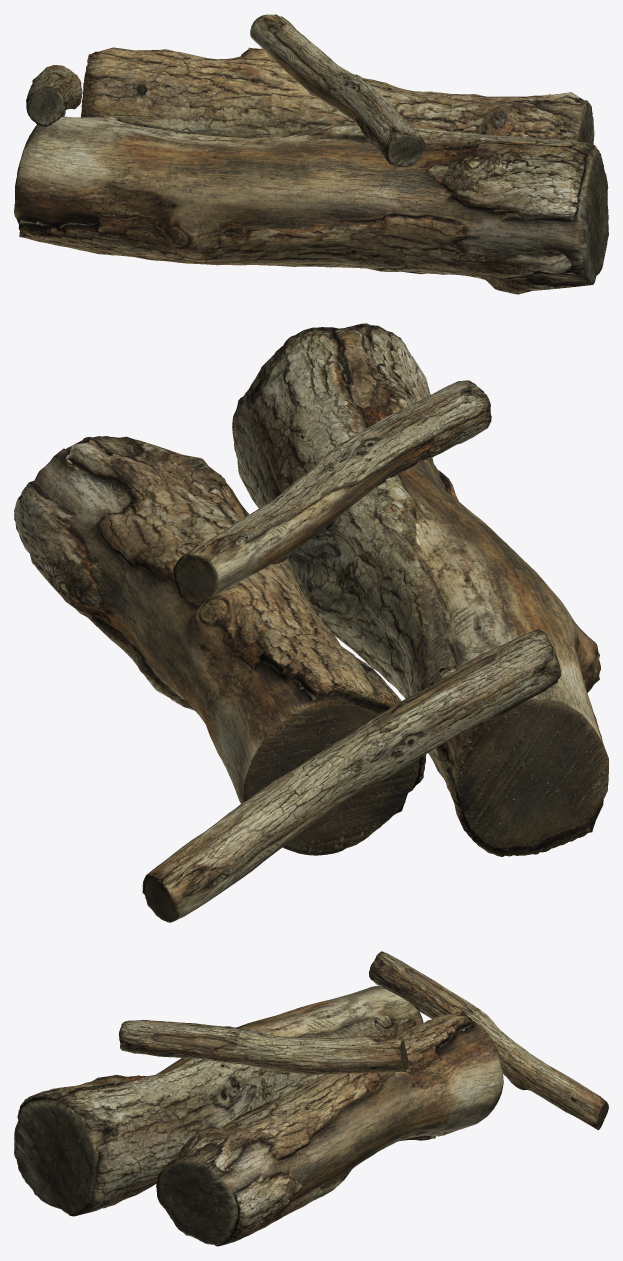
The model's file is log_sizzling_cauldron 1.obj.
3 renders of one model, top to bottom at view 1: azimuth 30°, elevation 25°; view 2: azimuth 150°, elevation 25°; view 3: azimuth 270°, elevation 25°, orthographic. The views are drawn at different scales.
Visible parts, largest first — view 1: log_big_right_Cylinder.000, log_big_left_Cylinder.001, log_small_1_Cylinder.004, log_small_2_Cylinder.005; view 2: log_big_right_Cylinder.000, log_big_left_Cylinder.001, log_small_2_Cylinder.005, log_small_1_Cylinder.004; view 3: log_big_left_Cylinder.001, log_big_right_Cylinder.000, log_small_1_Cylinder.004, log_small_2_Cylinder.005.
Boxes of the visible parts, <box> form: log_big_right_Cylinder.000: <box>14,115,608,294</box>; log_big_left_Cylinder.001: <box>81,47,594,143</box>; log_small_1_Cylinder.004: <box>250,14,425,167</box>; log_small_2_Cylinder.005: <box>26,65,82,126</box>; log_big_right_Cylinder.000: <box>232,323,608,856</box>; log_big_left_Cylinder.001: <box>14,436,426,855</box>; log_small_2_Cylinder.005: <box>142,629,561,922</box>; log_small_1_Cylinder.004: <box>173,380,491,603</box>; log_big_left_Cylinder.001: <box>156,1011,503,1246</box>; log_big_right_Cylinder.000: <box>14,985,423,1216</box>; log_small_1_Cylinder.004: <box>119,1020,408,1074</box>; log_small_2_Cylinder.005: <box>369,951,608,1130</box>.
Bounding box in the file's own units: 2.63 × 0.8743 × 3.25.
